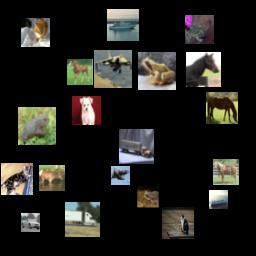airplane: (94, 50, 132, 88), (111, 166, 130, 185)
automobile: (21, 213, 40, 232)
cat: (1, 163, 33, 195), (162, 207, 194, 239), (21, 18, 50, 47)
deer: (39, 165, 65, 191)
dog: (72, 96, 101, 125)
frog: (138, 52, 176, 90), (18, 107, 56, 145), (185, 15, 214, 44), (137, 186, 159, 208)
ship: (107, 9, 139, 41), (209, 190, 228, 209)
truck: (65, 202, 100, 237), (119, 129, 154, 164)
